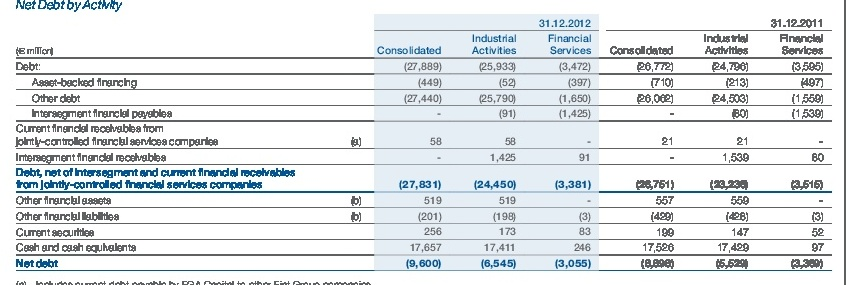table: (0, 0, 849, 285)
